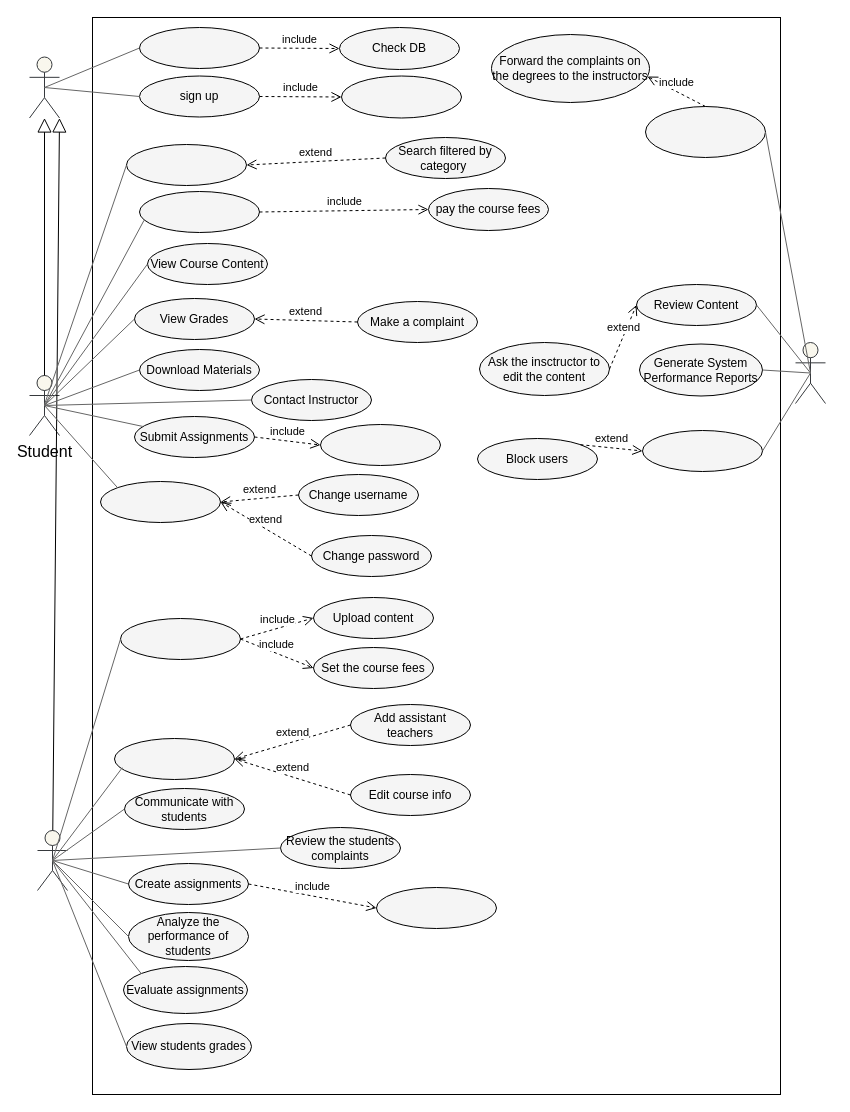
This 850x1112 diagram has some shape labels left out. The shapes that lost their labels are listed below. From the top down, each one's centre as x and y in pixels, then its label:
At (199,47): "log in".
At (44,87): "user".
At (401,96): "Validate inputs".
At (705,132): "Handle user Complaints".
At (186,165): "Search Courses".
At (199,211): "Enroll in Course".
At (810,373): "Admin".
At (380,445): "Submit file".
At (702,451): "Manage users".
At (160,501): "Update Profile".
At (180,639): "Create Course".
At (174,759): "Manage Course".
At (52,860): "Instructor".
At (436,907): "upload file".
